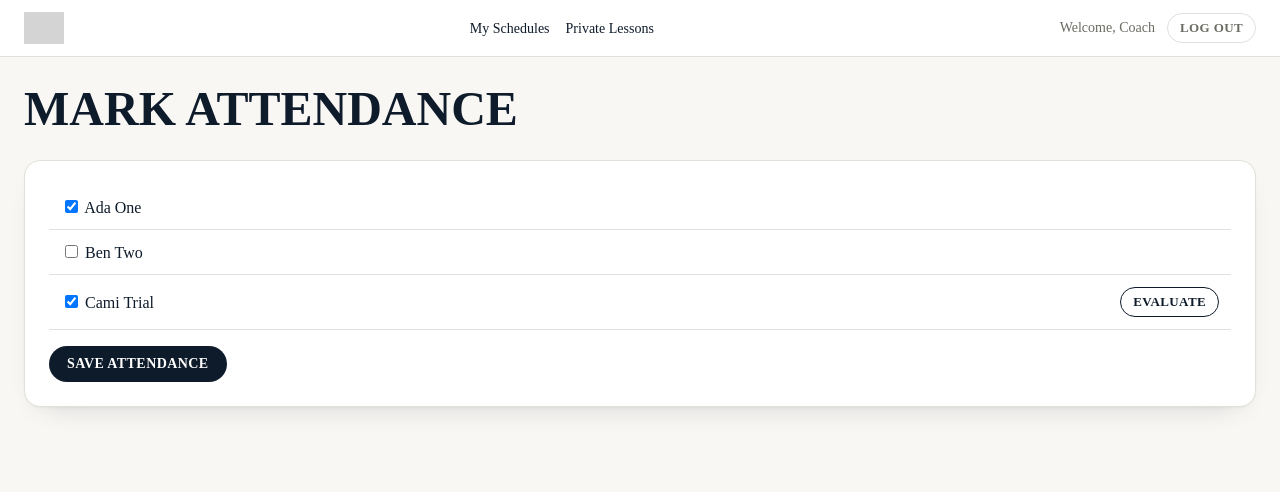
Test: AttendancePage › renders the roster pre-checked from isPresent and saves the toggled state
Expected: the text "Ada One" is shown, [61, 199, 141, 216]
Expected: the checkbox labelled "Ada One" is checked, [65, 200, 78, 213]
Step 1. Click the checkbox labelled "Ben Two" → point(72, 252), box [65, 245, 78, 258]
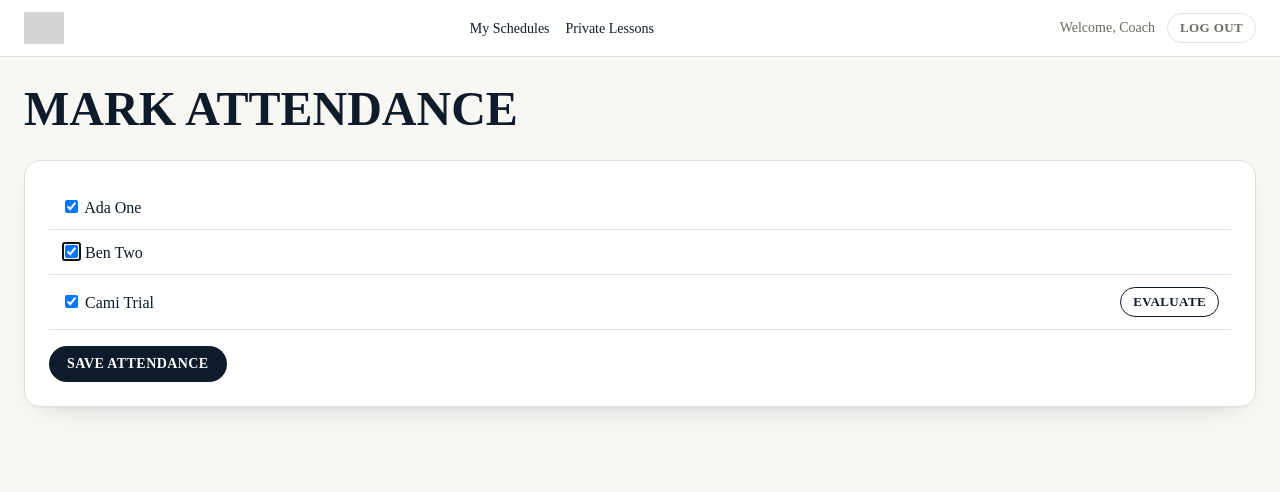
Step 2. Click the button "Save Attendance" → point(138, 364), box [49, 346, 226, 382]
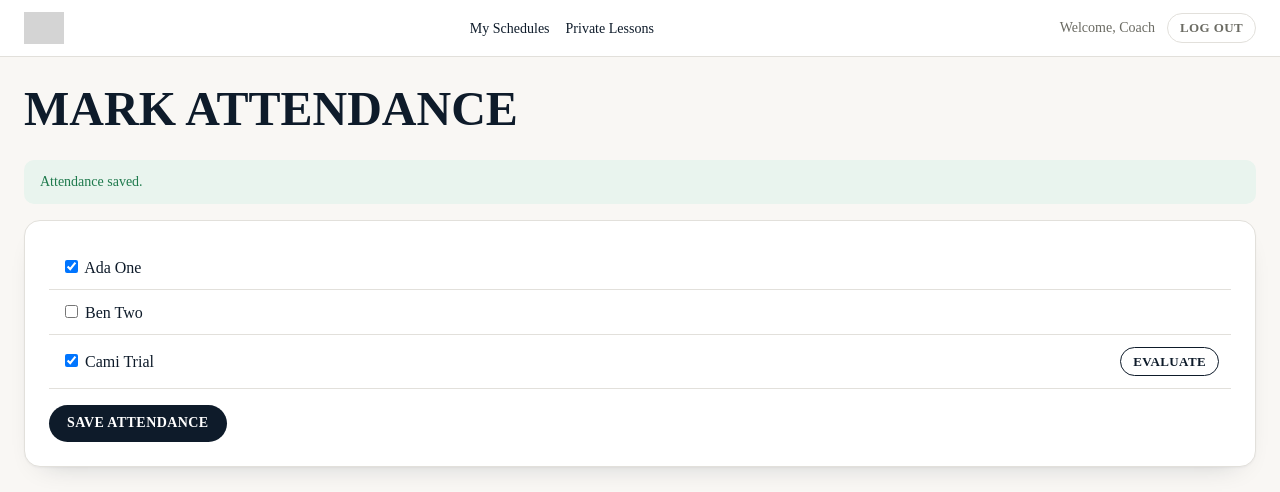
Expected: the text "Attendance saved." is shown, [24, 160, 1256, 204]
